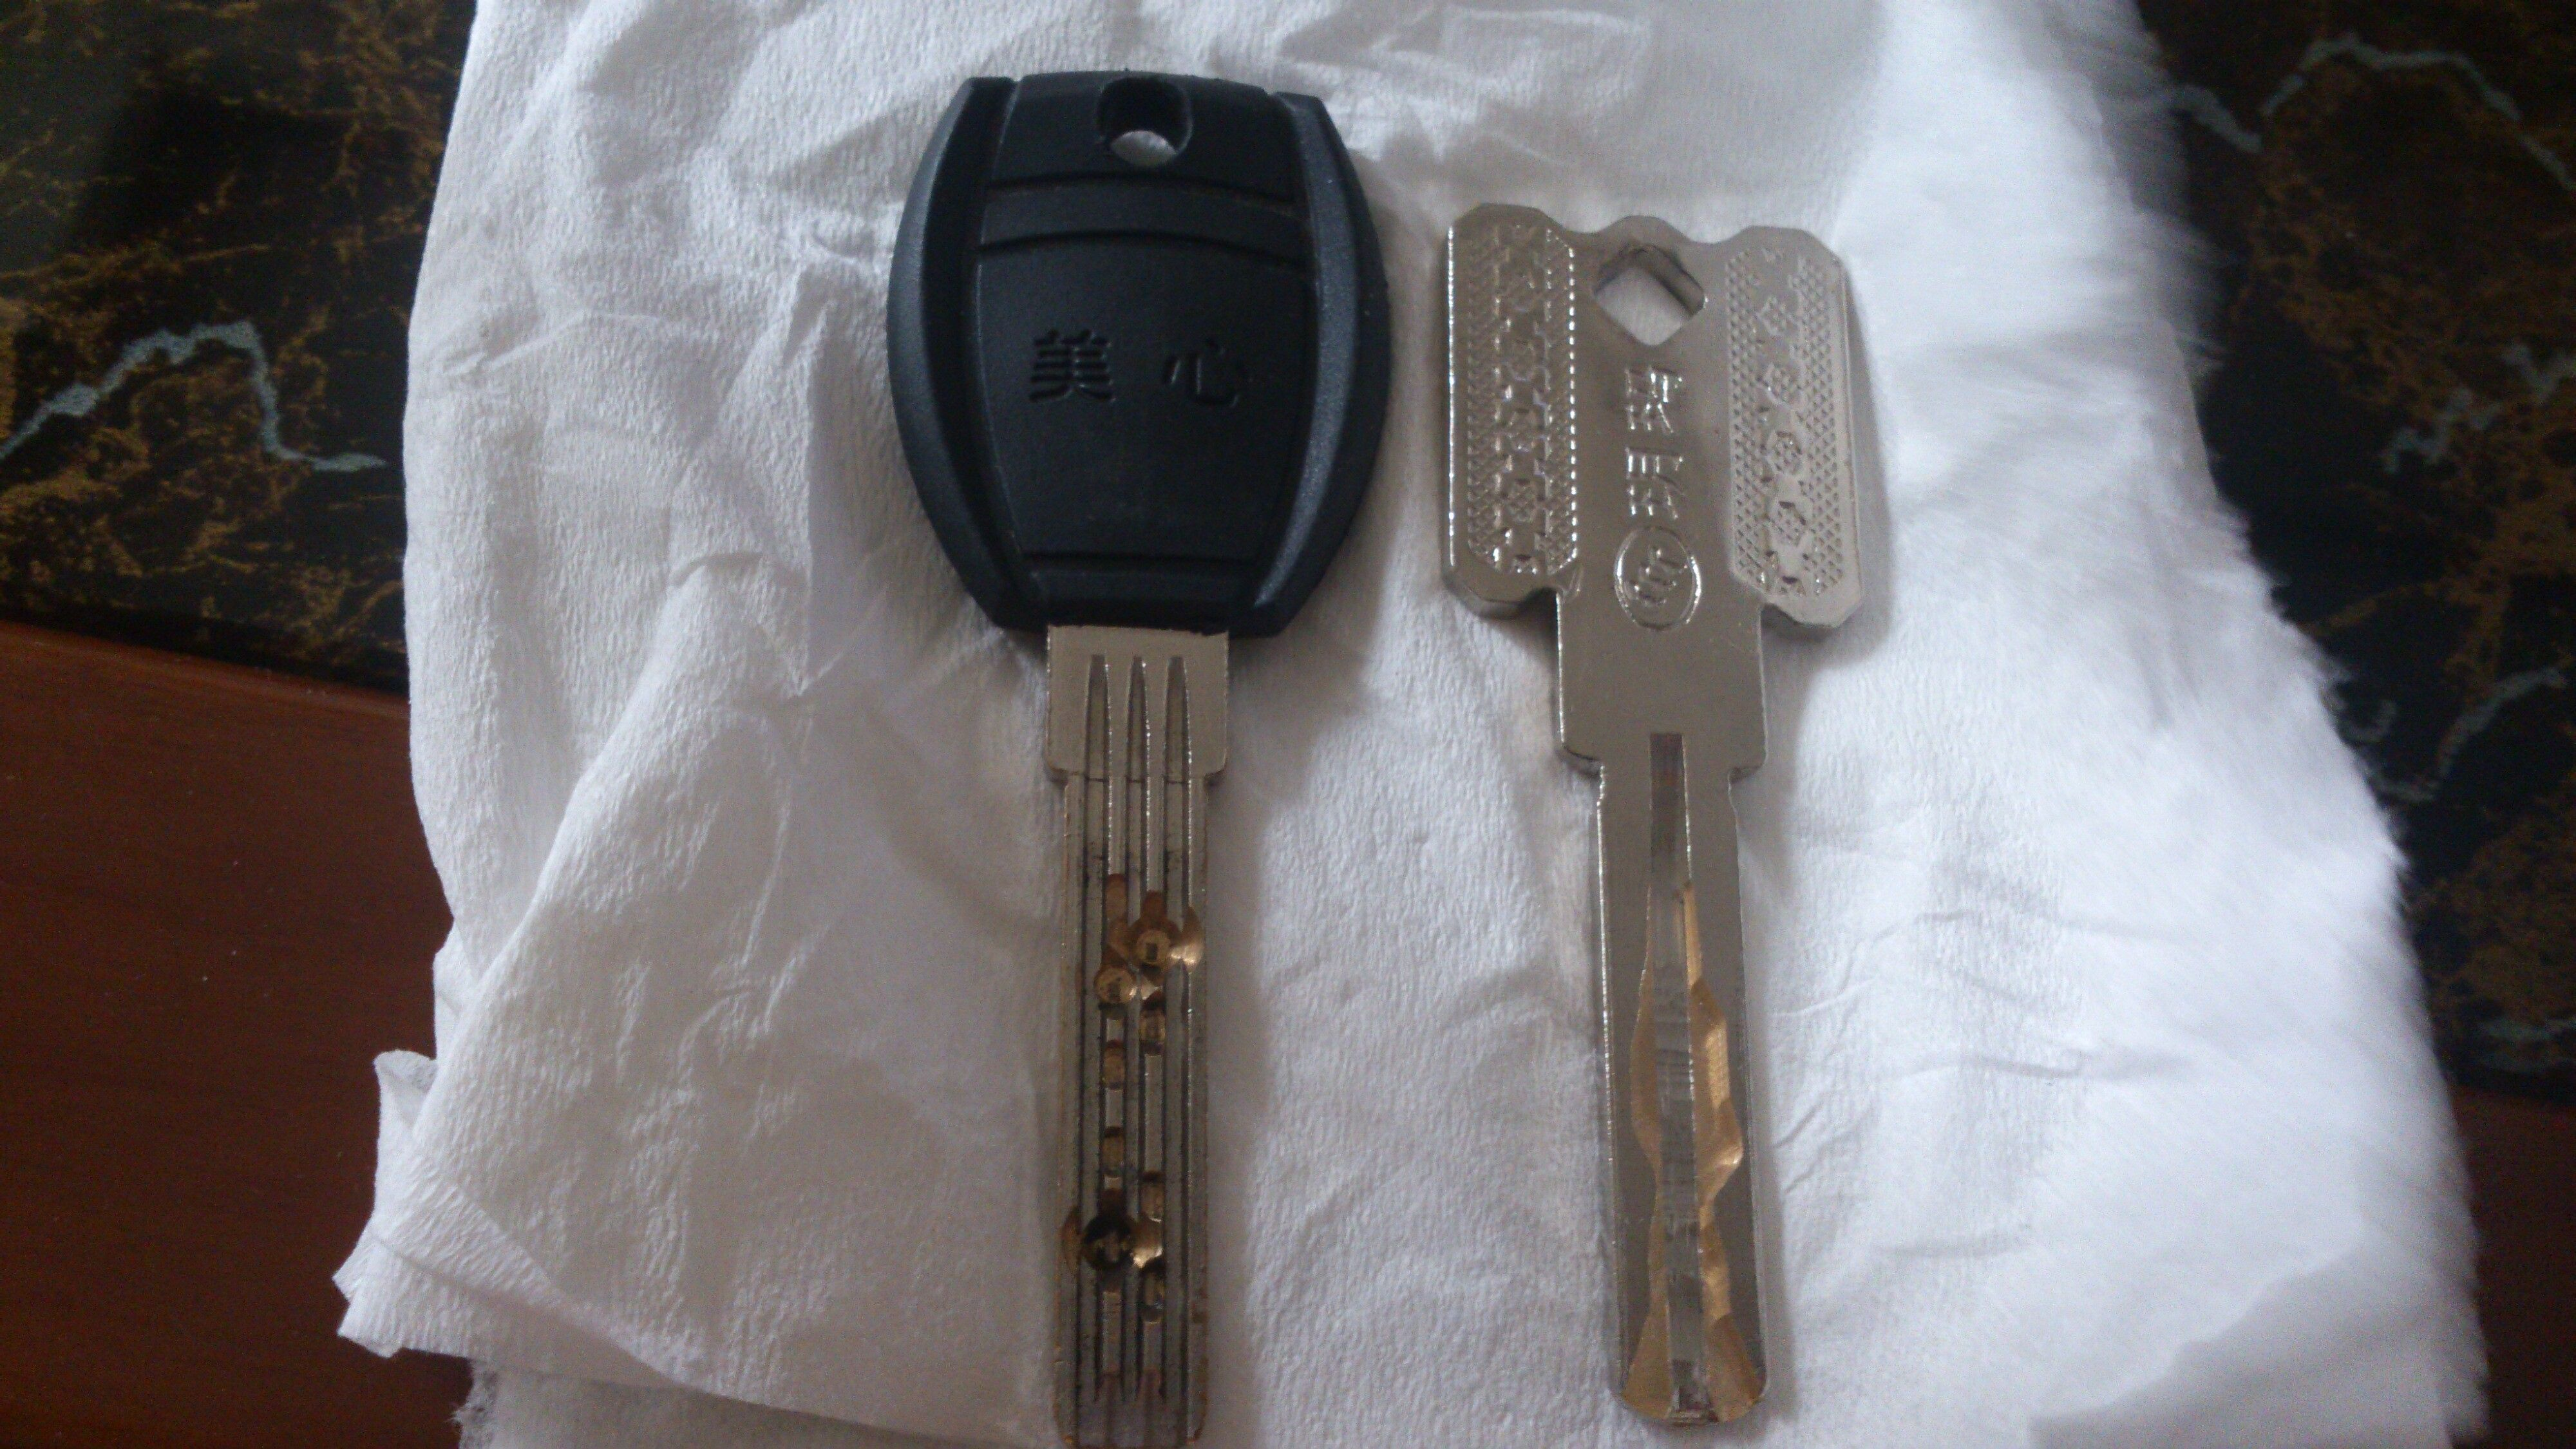key: (885, 74, 1394, 1430), (1437, 202, 1870, 1431)
